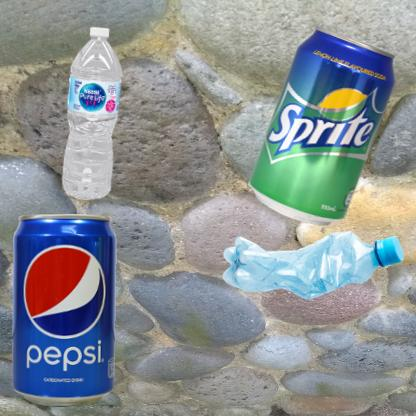botella: (10, 10, 178, 219), (213, 213, 416, 317)
lata: (213, 10, 416, 269), (10, 213, 118, 409)
